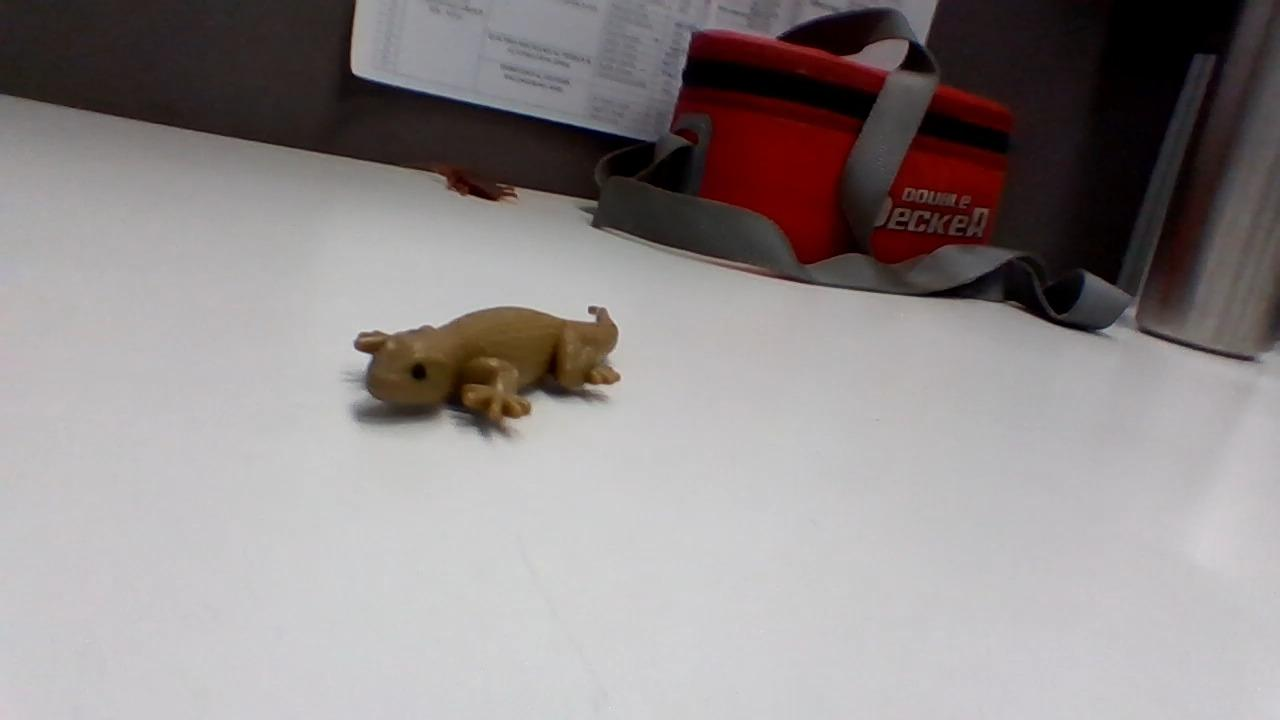lizard: (342, 300, 624, 437)
